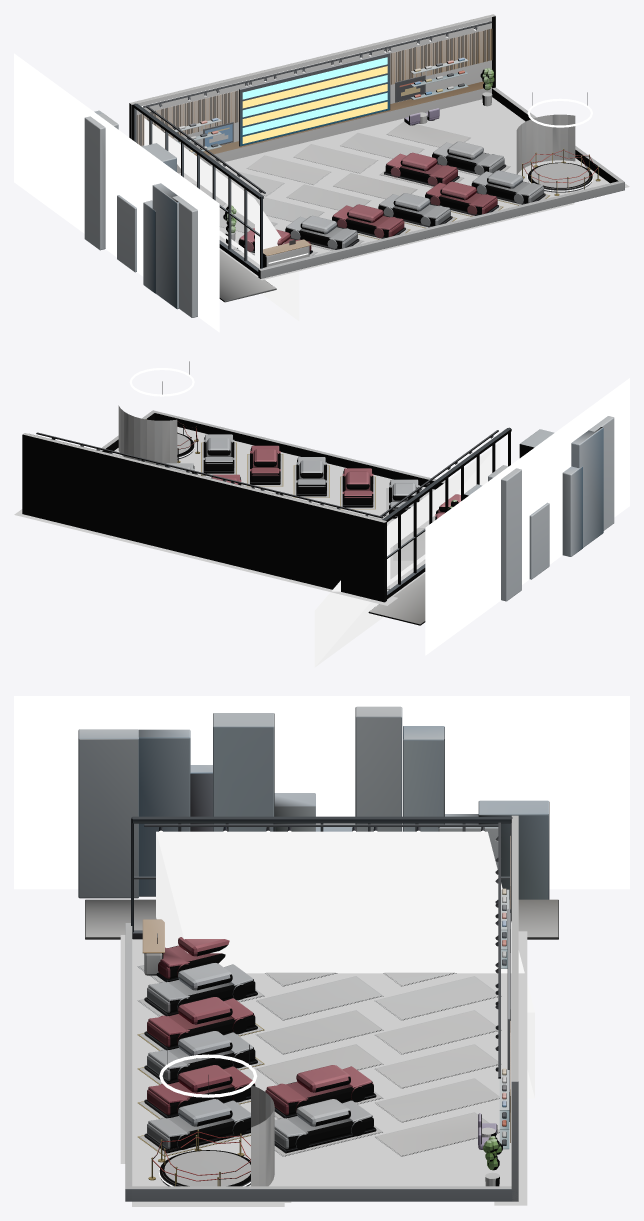
The model's file is showroom.glb.
3 views of the same model, one above another, from view 1: azimuth 30°, elevation 25°; view 2: azimuth 150°, elevation 25°; view 3: azimuth 270°, elevation 25° (orthographic). The views are drawn at different scales.
Visible parts, largest first — view 1: Shell, Park_L1, Walls_L3, Walls_L2, Decal_Park_L1, Beam_Glass, Lift_L3, Floor, Props, Decal_Park_L3, Lift_L2, Decal_Walls_L2 (+1 smaller); view 2: Shell, Park_L1, Beam_Glass, Decal_Park_L1, Lift_L3, Decal_Park_L3, Decal_Walls_L2, Park_L4, Decal_Walls_L3, Lights_L3, Park_L5; view 3: Shell, Park_L1, Beam_Glass, Decal_Park_L1, Decal_Park_L3, Decal_Walls_L2, Floor, Lift_L2, Lift_L3, Props, Walls_L3, Decal_Lift_L3 (+3 smaller).
Boxes of the visible parts, x1=… form: Shell: x1=14, y1=14, x2=624, y2=332; Park_L1: x1=192, y1=121, x2=545, y2=254; Walls_L3: x1=164, y1=52, x2=468, y2=153; Walls_L2: x1=136, y1=28, x2=492, y2=157; Decal_Park_L1: x1=179, y1=109, x2=527, y2=278; Beam_Glass: x1=144, y1=118, x2=299, y2=320; Lift_L3: x1=516, y1=114, x2=593, y2=192; Floor: x1=450, y1=101, x2=525, y2=160; Props: x1=223, y1=68, x2=494, y2=267; Decal_Park_L3: x1=226, y1=109, x2=574, y2=280; Lift_L2: x1=522, y1=148, x2=600, y2=195; Decal_Walls_L2: x1=178, y1=97, x2=497, y2=176; Shell: x1=22, y1=378, x2=629, y2=655; Park_L1: x1=165, y1=434, x2=460, y2=589; Beam_Glass: x1=314, y1=442, x2=500, y2=667; Decal_Park_L1: x1=195, y1=435, x2=434, y2=602; Lift_L3: x1=118, y1=405, x2=194, y2=466; Decal_Park_L3: x1=181, y1=433, x2=425, y2=599; Decal_Walls_L2: x1=14, y1=509, x2=397, y2=605; Park_L4: x1=293, y1=465, x2=375, y2=509; Decal_Walls_L3: x1=116, y1=537, x2=287, y2=580; Lights_L3: x1=80, y1=361, x2=472, y2=509; Park_L5: x1=201, y1=442, x2=283, y2=486; Shell: x1=14, y1=696, x2=629, y2=1201; Park_L1: x1=144, y1=937, x2=501, y2=1156; Beam_Glass: x1=156, y1=831, x2=534, y2=1098; Decal_Park_L1: x1=132, y1=939, x2=511, y2=1163; Decal_Park_L3: x1=120, y1=935, x2=511, y2=1163; Decal_Walls_L2: x1=494, y1=931, x2=527, y2=1205; Floor: x1=291, y1=1164, x2=494, y2=1186; Lift_L2: x1=148, y1=1129, x2=250, y2=1186; Lift_L3: x1=159, y1=1085, x2=274, y2=1186; Props: x1=142, y1=919, x2=502, y2=1186; Walls_L3: x1=499, y1=888, x2=510, y2=1149; Decal_Lift_L3: x1=142, y1=1146, x2=291, y2=1202.
Size of the model in its own units: 33.46 by 13.88 by 26.
